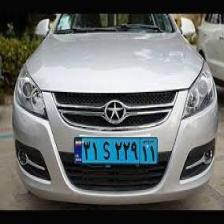plate: (73, 134, 157, 164)
